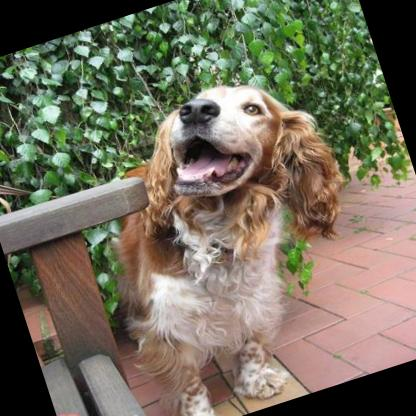Welsh_springer_spaniel: (50, 56, 402, 416)
